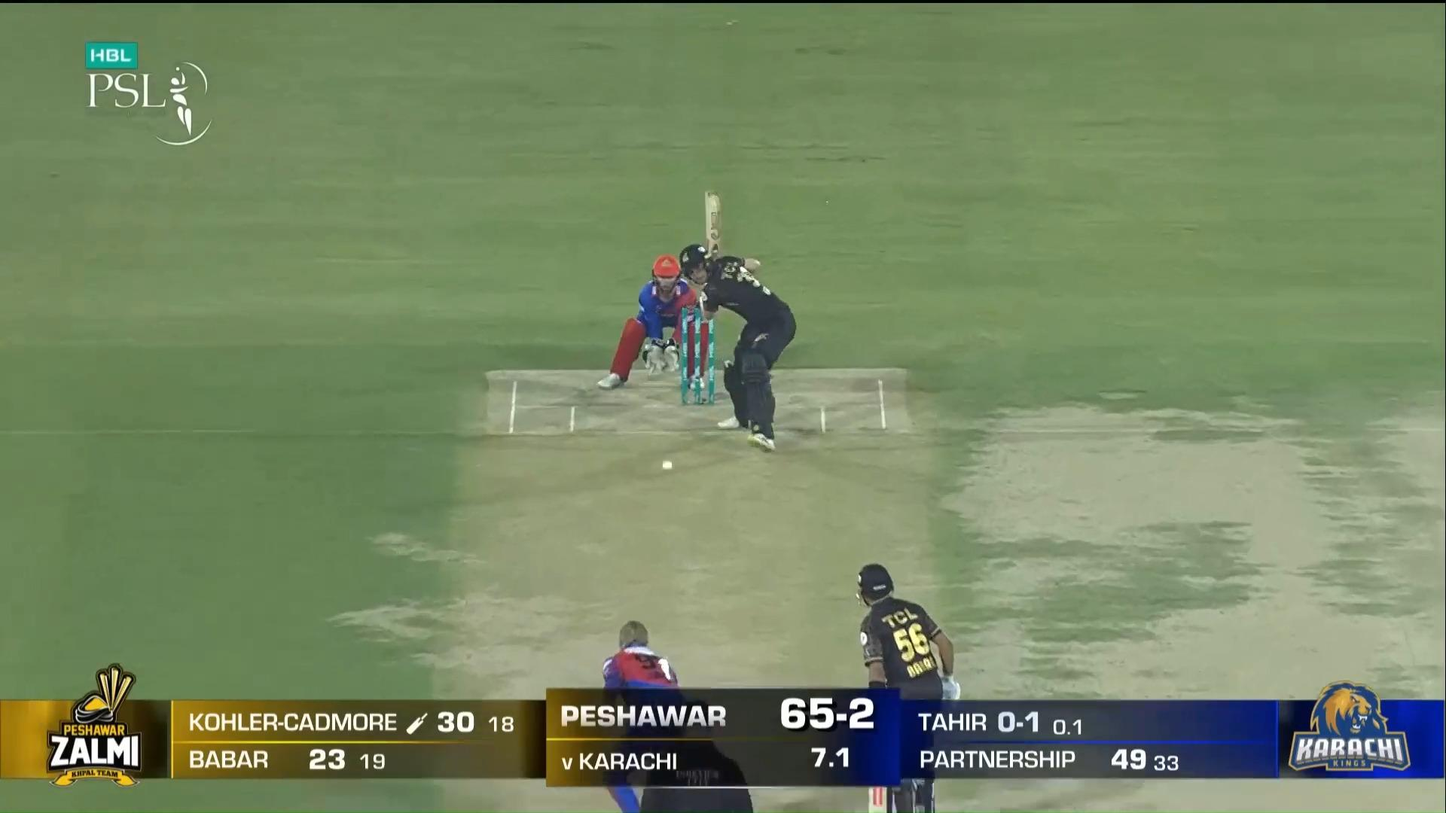batsman: (679, 192, 797, 454)
